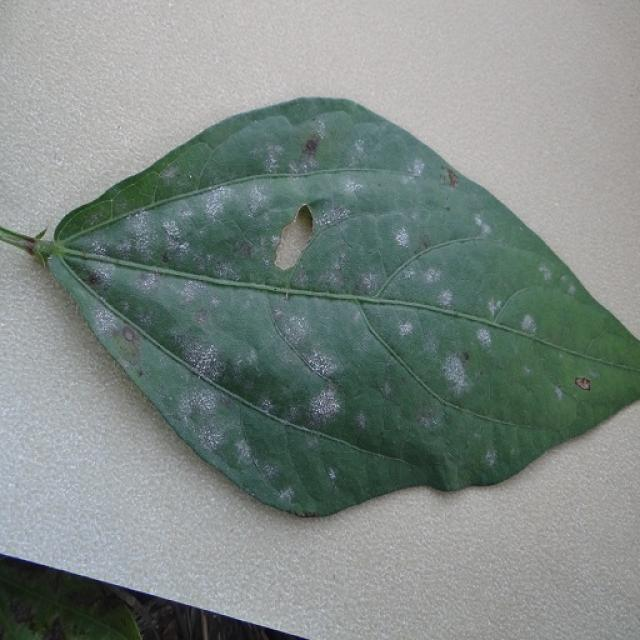Blackgram: (0, 99, 639, 515)
Powdery_Mildew: (300, 375, 344, 429), (278, 310, 320, 353), (182, 337, 225, 377), (123, 213, 163, 256), (187, 386, 224, 423), (315, 201, 353, 229), (441, 355, 469, 392), (85, 259, 117, 290), (91, 305, 121, 337), (177, 280, 210, 308), (304, 349, 336, 377), (244, 183, 272, 215), (202, 190, 228, 219), (358, 271, 383, 294), (419, 330, 441, 356), (262, 144, 283, 170), (234, 438, 255, 463), (137, 270, 159, 292), (162, 219, 183, 242), (341, 177, 364, 195), (257, 396, 277, 416), (476, 327, 493, 347), (520, 314, 537, 334), (475, 216, 492, 236), (424, 267, 442, 285), (161, 164, 180, 181), (409, 158, 425, 177), (395, 227, 410, 246), (487, 299, 502, 317), (438, 289, 453, 307), (279, 487, 295, 503), (354, 412, 368, 430), (398, 320, 414, 335), (538, 264, 552, 281), (352, 139, 366, 156), (484, 449, 497, 466), (352, 310, 366, 325), (554, 385, 564, 400), (328, 468, 337, 481)
